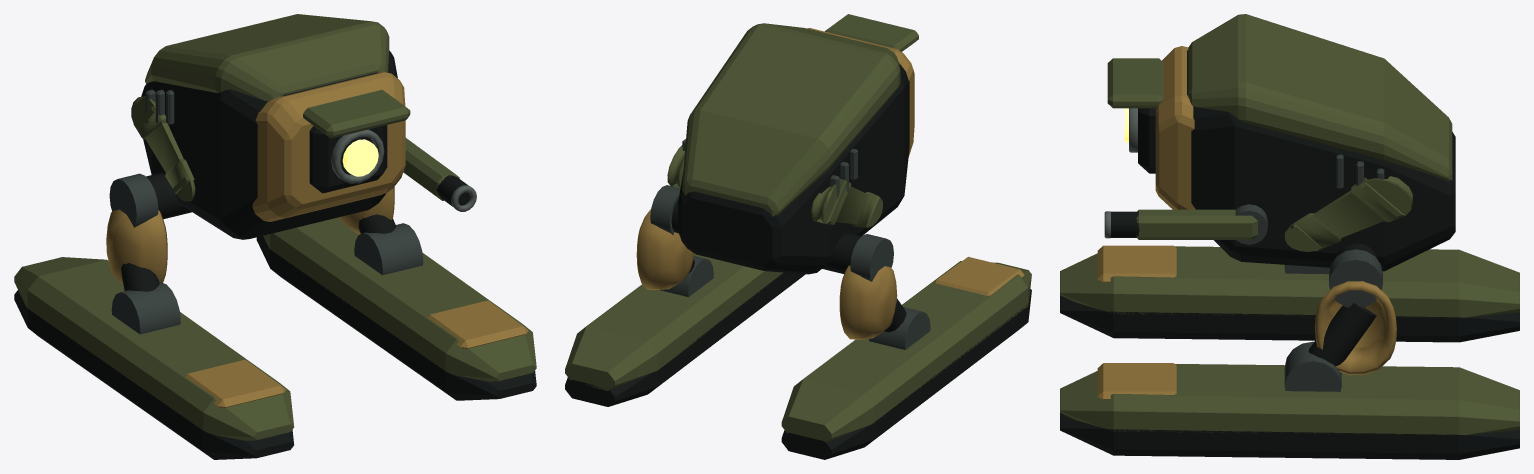
File: DARTER.lo.glb
The picture shows the model from 3 angles, left to right: view 1: azimuth 30°, elevation 25°; view 2: azimuth 150°, elevation 25°; view 3: azimuth 270°, elevation 25°; orthographic projection. The views are drawn at different scales.
Visible parts, largest first — view 1: BodyBank_Mesh, Skate_L_Mesh, Skate_R_Mesh, Suspension_Mesh, ProjectionArm_Mesh; view 2: BodyBank_Mesh, Skate_L_Mesh, Skate_R_Mesh, Suspension_Mesh; view 3: BodyBank_Mesh, Skate_R_Mesh, Skate_L_Mesh, Suspension_Mesh, ProjectionArm_Mesh.
Part boxes in pixels (box(x1,y1,x2,y2)): BodyBank_Mesh: box(131, 14, 410, 239); Skate_L_Mesh: box(14, 257, 294, 459); Skate_R_Mesh: box(256, 217, 536, 400); Suspension_Mesh: box(106, 173, 396, 291); ProjectionArm_Mesh: box(403, 137, 476, 211); BodyBank_Mesh: box(667, 14, 918, 274); Skate_L_Mesh: box(781, 256, 1031, 459); Skate_R_Mesh: box(565, 253, 804, 406); Suspension_Mesh: box(636, 185, 906, 339); BodyBank_Mesh: box(1107, 14, 1455, 271); Skate_R_Mesh: box(1060, 341, 1519, 459); Skate_L_Mesh: box(1060, 245, 1519, 342); Suspension_Mesh: box(1308, 243, 1396, 375); ProjectionArm_Mesh: box(1104, 204, 1267, 244).
Size of the model in its own units: 1.07 by 1.06 by 1.29.
